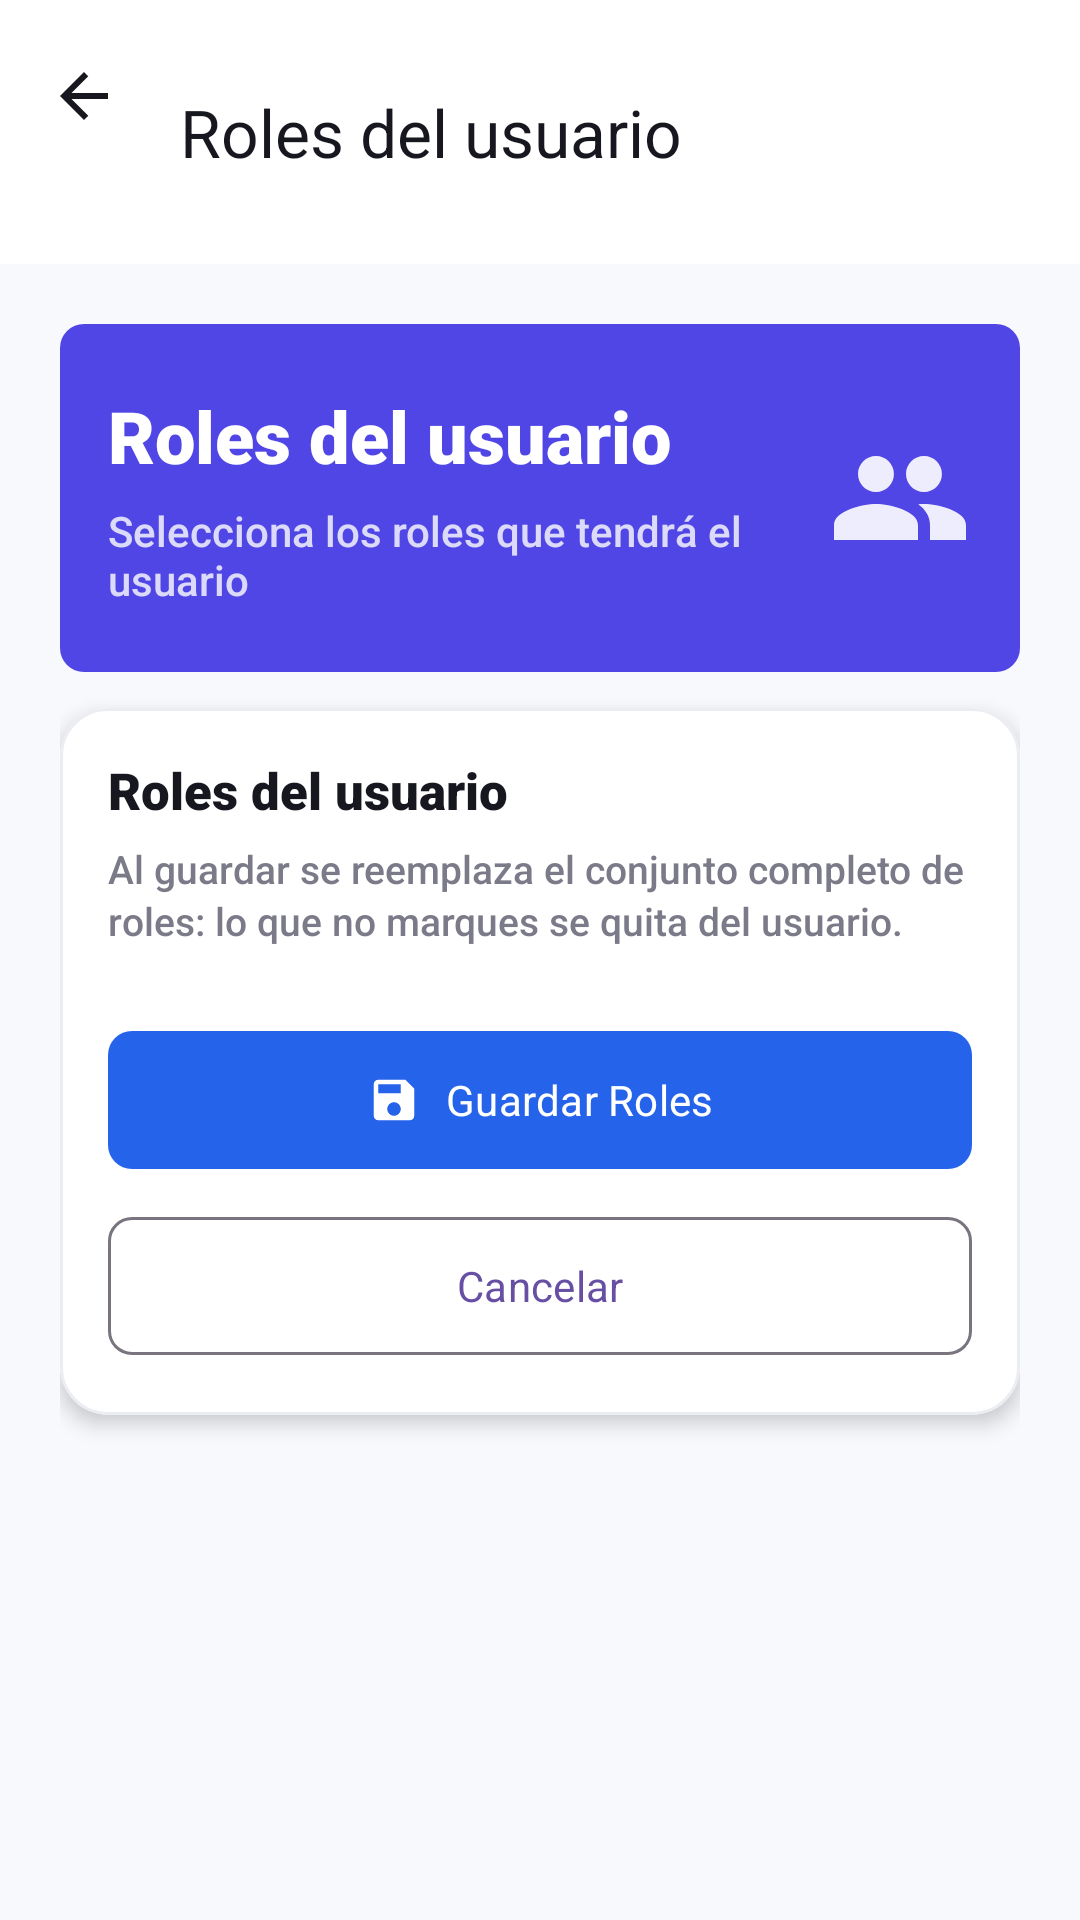

Where to tap for icons on this 1080*1920 app screen, as point (x, y):
users: point (900, 498)
